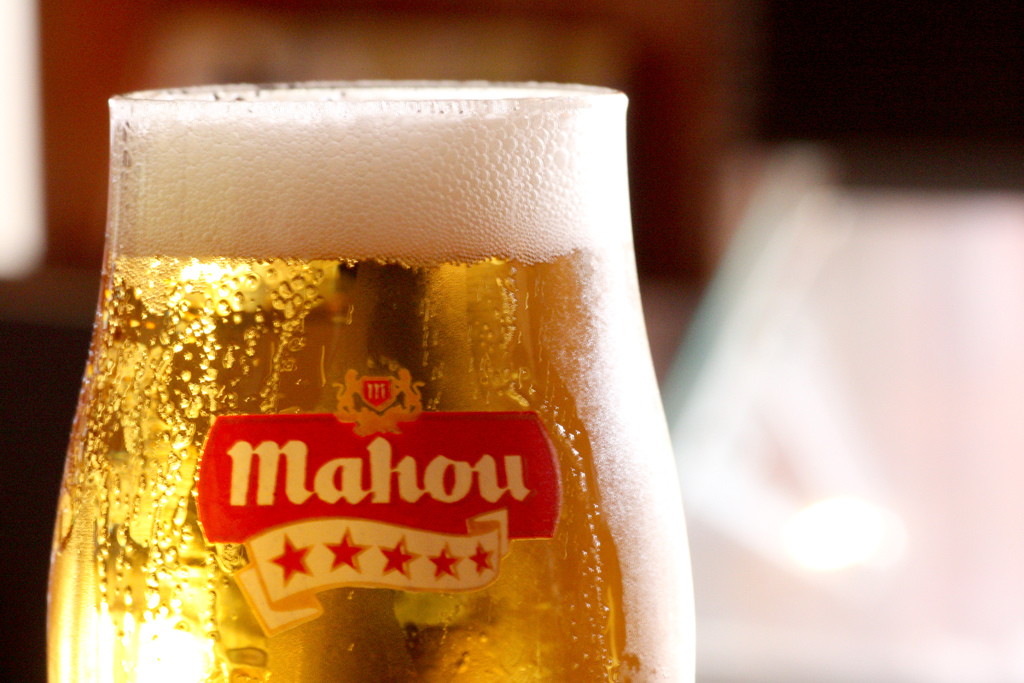Beer: (48, 77, 695, 682)
